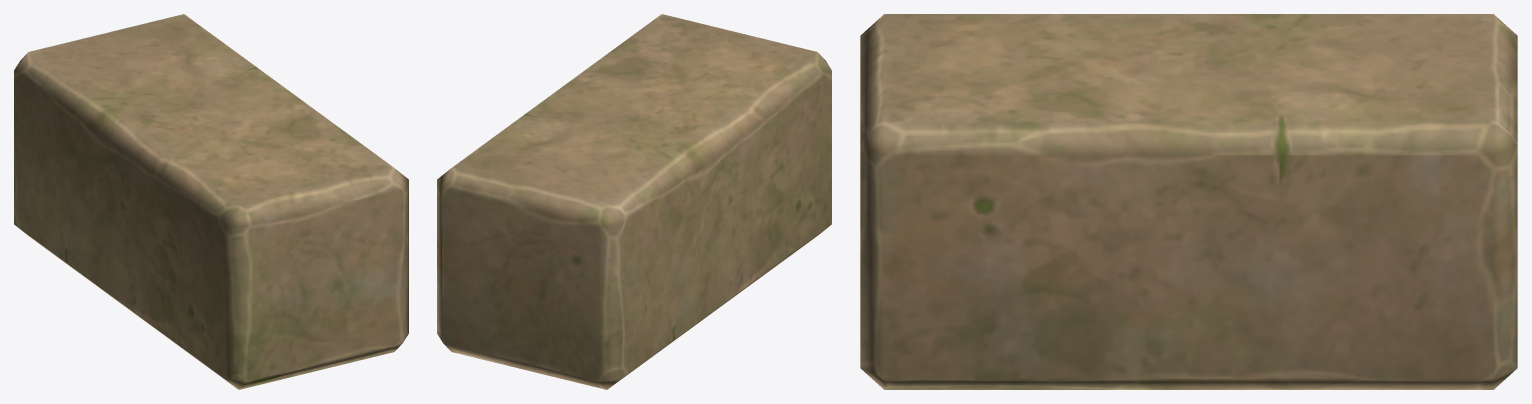
The model's file is SM_Brick_Kit_1.fbx.
3 renders of one model, left to right at view 1: azimuth 30°, elevation 25°; view 2: azimuth 150°, elevation 25°; view 3: azimuth 270°, elevation 25°, orthographic. The views are drawn at different scales.
Visible parts, largest first — view 1: SM_Brick_Kit_1_LOD0; view 2: SM_Brick_Kit_1_LOD0; view 3: SM_Brick_Kit_1_LOD0.
Part boxes in pixels (x1,y1,x2,y2): SM_Brick_Kit_1_LOD0: (14, 14, 408, 389); SM_Brick_Kit_1_LOD0: (437, 14, 831, 389); SM_Brick_Kit_1_LOD0: (860, 14, 1517, 389).
Bounding box in the file's own units: 20.24 × 43.17 × 19.28.
Materials: 1 (1 with a texture image).
